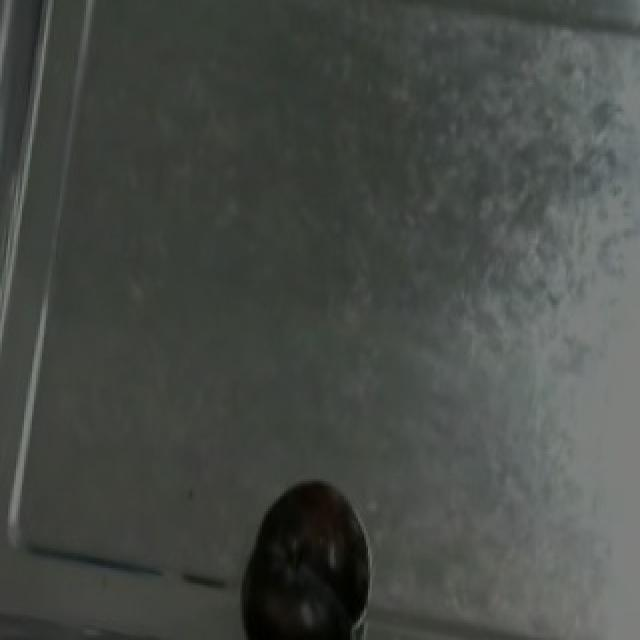Fruit: (230, 466, 374, 640)
